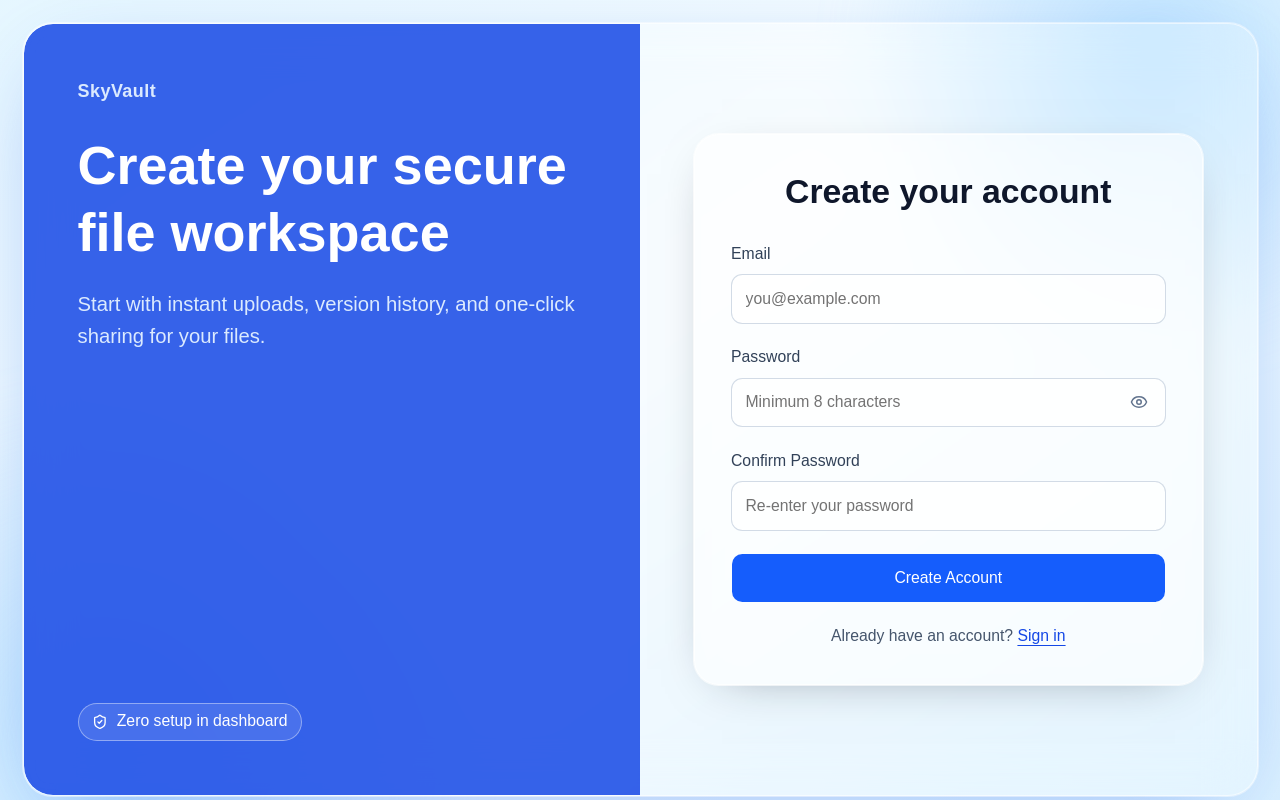
it: RegisterPage › shows destructive alert on API error
The image size is (1280, 800).
Type "user@example.com" into the field labelled "Email". click: point(948, 299)
box: [731,274,1166,324]
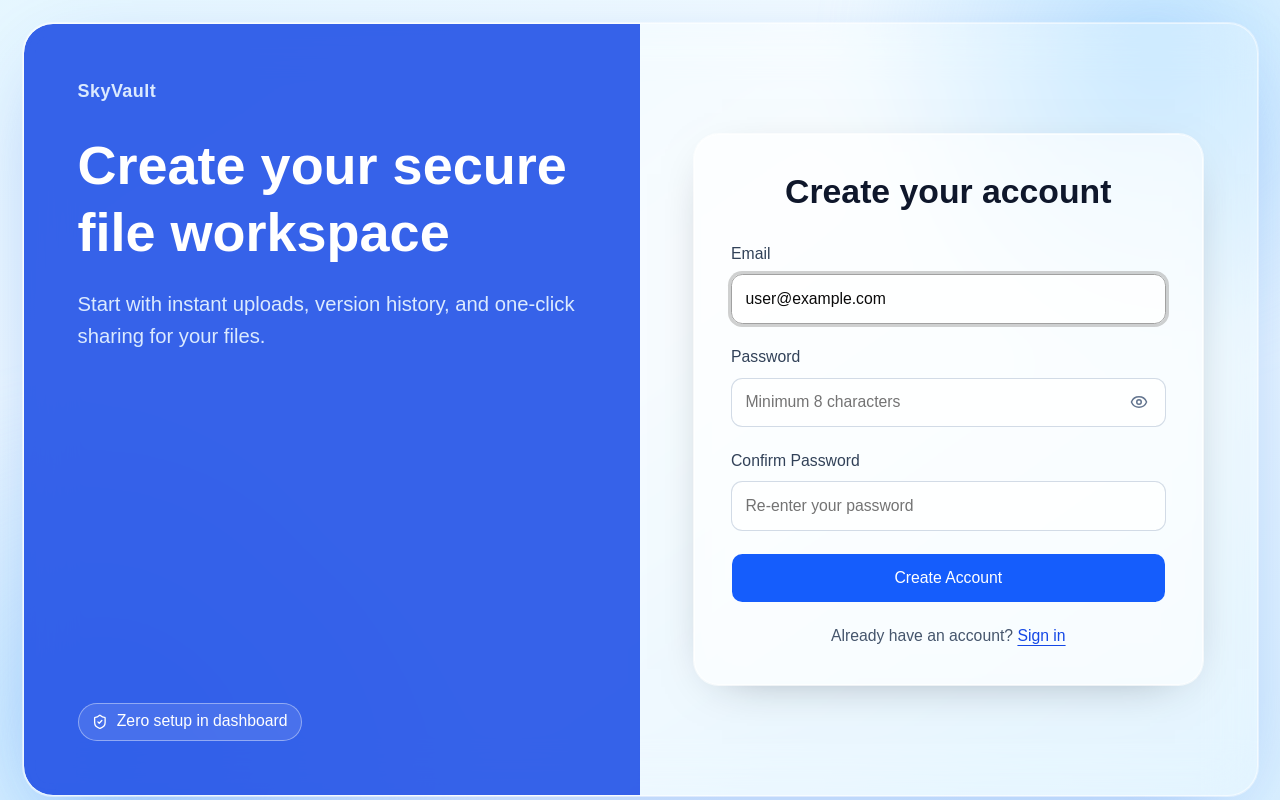
Type "password123" into the password field labelled "Password". click: point(948, 402)
box: [731,378,1166,427]
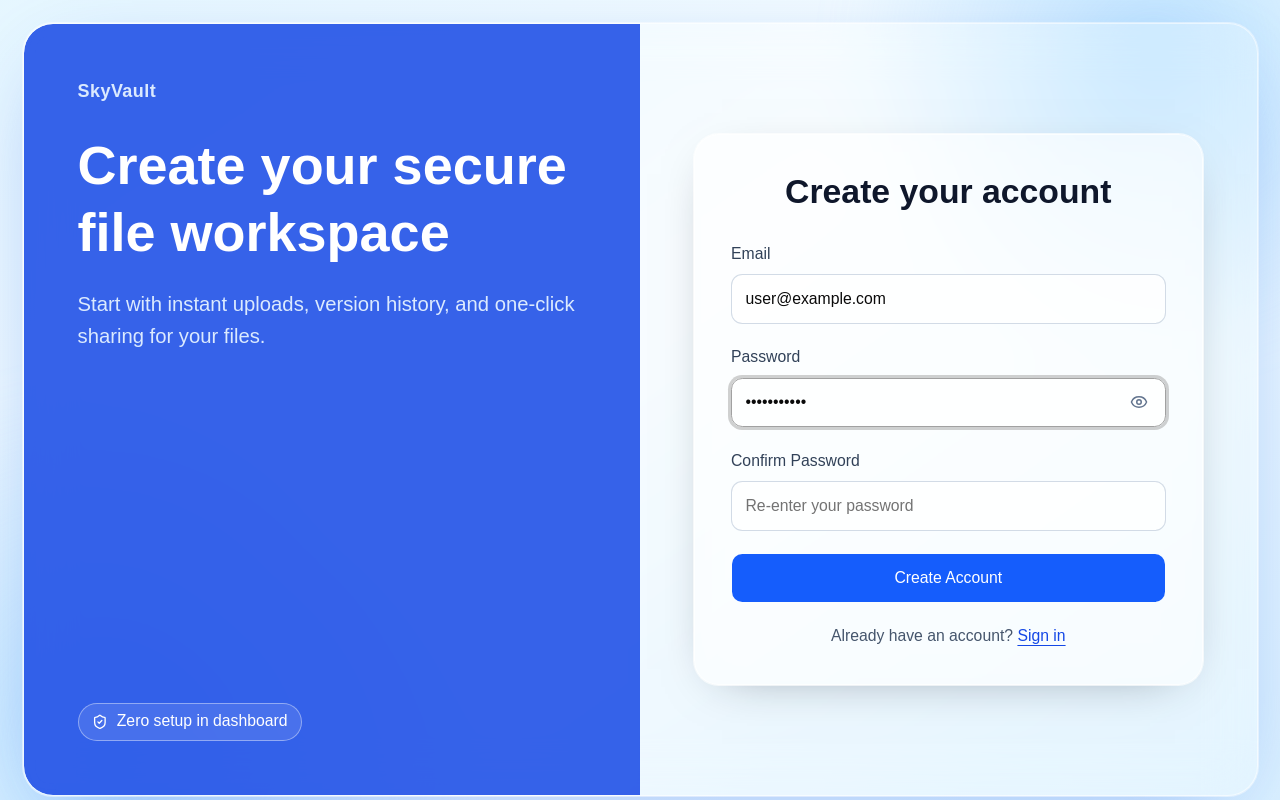
Type "password123" into the password field labelled "Confirm Password". click: point(948, 506)
box: [731,481,1166,530]
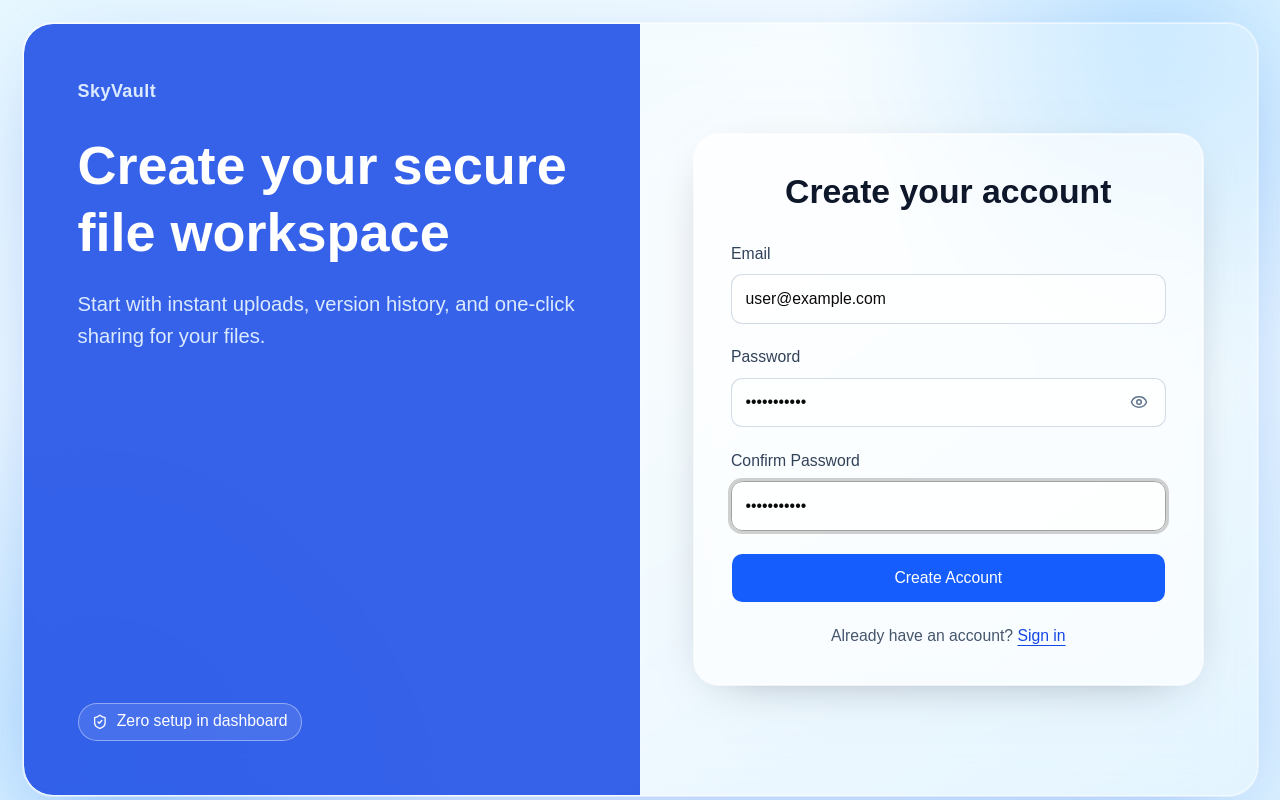
Click the button "Create Account". click: point(948, 578)
box: [731,553,1166,602]
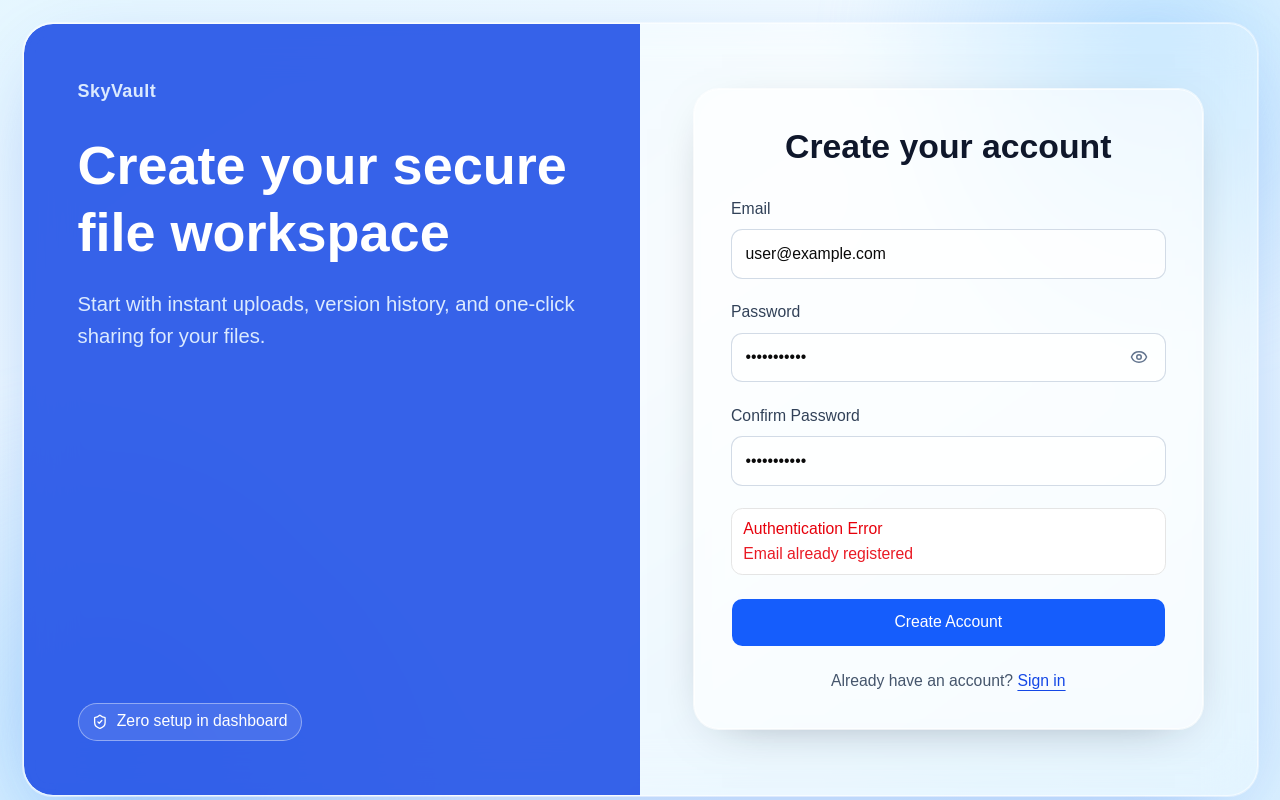
Check: the text "Email already registered" is shown, box [743,545,913,562]
Check: the message "Authentication Error Email already registered" is shown, box [731,508,1166,575]
